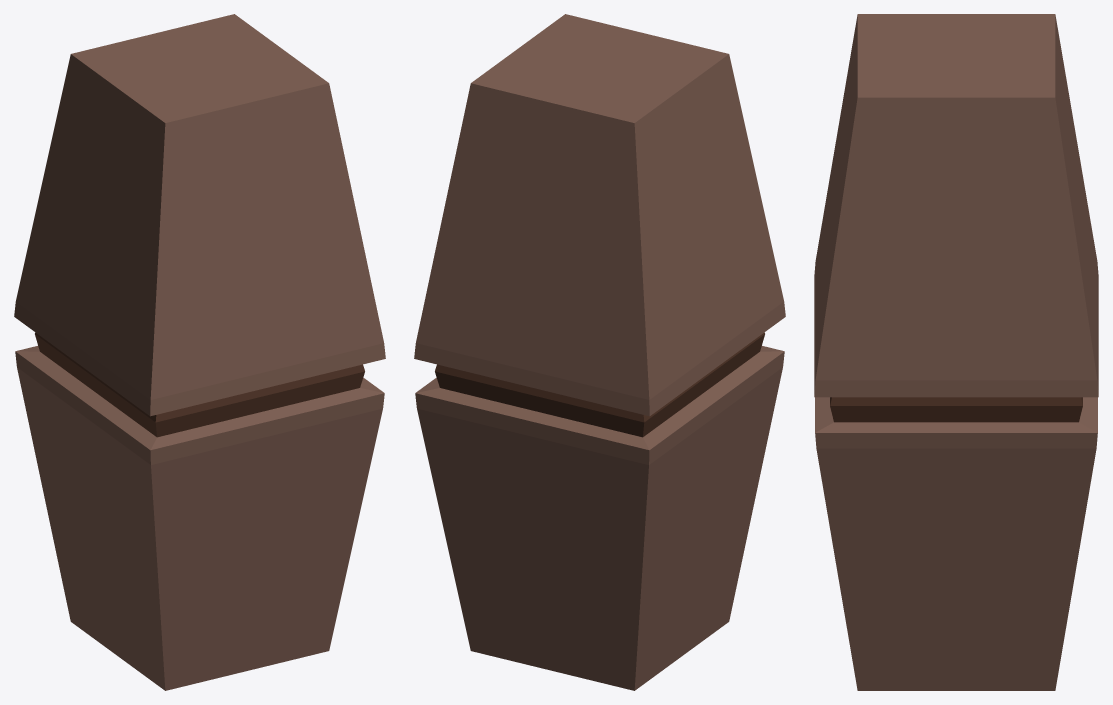
File: beam.fbx
The picture shows the model from 3 angles, left to right: view 1: azimuth 30°, elevation 25°; view 2: azimuth 150°, elevation 25°; view 3: azimuth 270°, elevation 25°; orthographic projection. The views are drawn at different scales.
Visible parts, largest first — view 1: Beam; view 2: Beam; view 3: Beam.
Boxes of the visible parts, x1,y1,x2,y2 form: Beam: [14, 14, 385, 690]; Beam: [414, 14, 785, 690]; Beam: [814, 14, 1098, 690].
Bounding box in the file's own units: 288 × 662 × 288.
